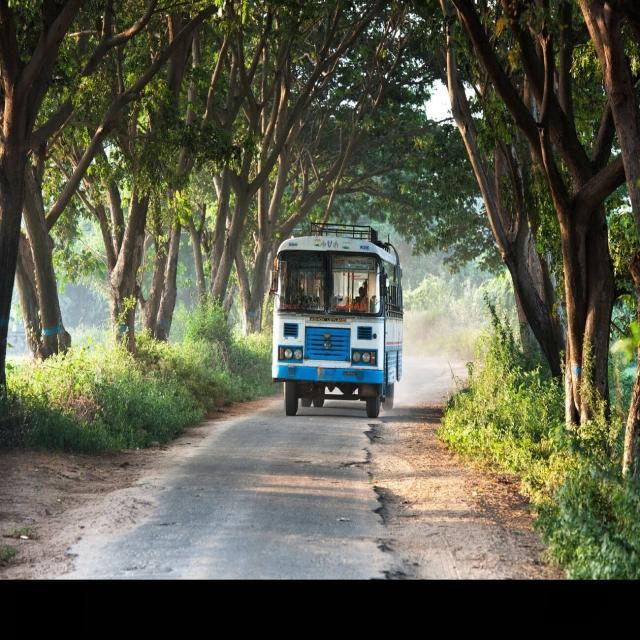bus: (271, 225, 404, 418)
